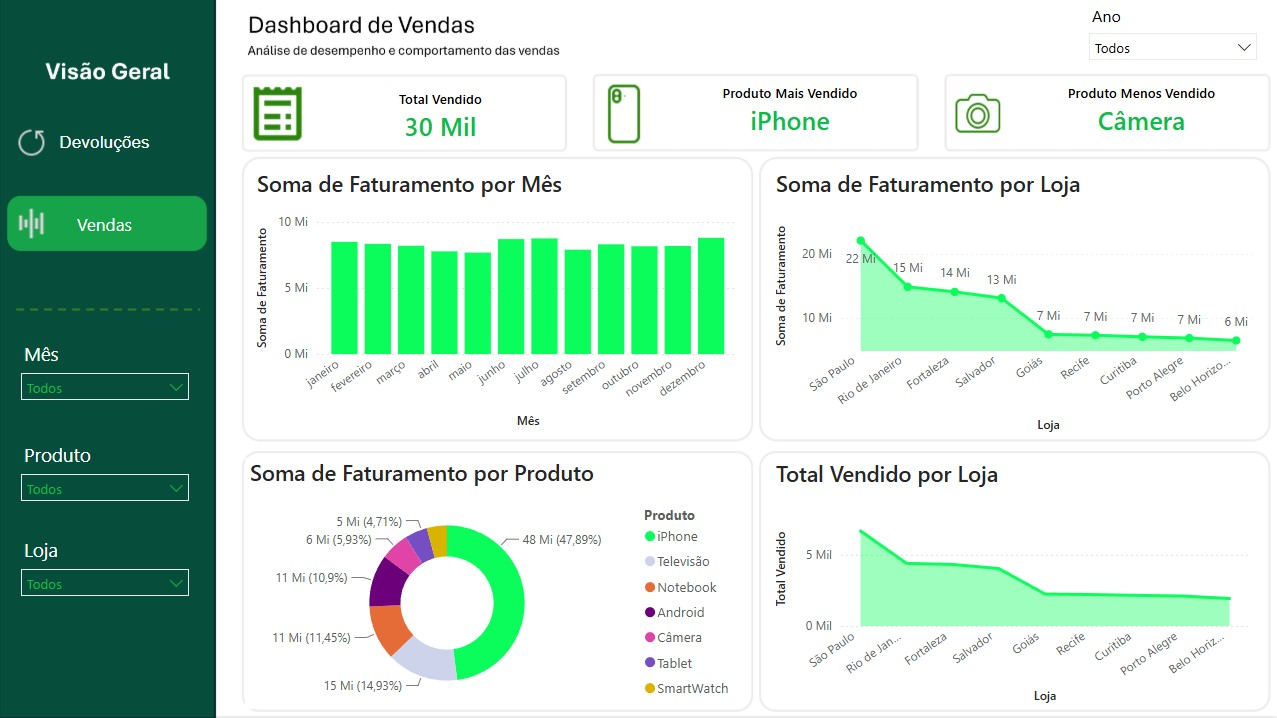

This screenshot's page, from the dashboard's own definition file:
{"tool":"powerbi","page":{"name":"Vendas","canvas":[1280,720],"ordinal":0},"visuals":[{"type":"columnChart","fields":{"Category":["Vendas 2019.Data Nova.Variation.Hierarquia de datas.Mês"],"Y":["Sum(Vendas 2019.Faturamento)"]},"box":[254,169,491,264],"z":2000},{"type":"donutChart","fields":{"Category":["Vendas 2019.Produto"],"Y":["Sum(Vendas 2019.Faturamento)"]},"box":[246.7,458.3,497.9,250.2],"z":3000},{"type":"lineChart","fields":{"Category":["Vendas 2019.Loja"],"Y":["Sum(Vendas 2019.Faturamento)"]},"box":[773,169,489,268],"z":4000},{"type":"cardVisual","fields":{"Data":["Vendas 2019.Produto Menos Vendido"]},"box":[1018,68,251,84],"z":5000},{"type":"slicer","fields":{"Values":["Vendas 2019.Data Nova.Variation.Hierarquia de datas.Mês"]},"box":[13,336,188,75],"z":6000},{"type":"slicer","fields":{"Values":["Vendas 2019.Produto"]},"box":[13,437,188,75],"z":7000},{"type":"slicer","fields":{"Values":["Vendas 2019.Loja"]},"box":[13,532,188,75],"z":8000},{"type":"stackedAreaChart","fields":{"Category":["Vendas 2019.Loja"],"Y":["Vendas 2019.Total Vendido"]},"box":[773,459,482,249],"z":9000},{"type":"actionButton","box":[10,116,193,53],"z":10000},{"type":"cardVisual","fields":{"Data":["Vendas 2019.Produto Mais Vendido"]},"box":[666,68,252,84],"z":11000},{"type":"cardVisual","fields":{"Data":["Vendas 2019.Total Vendido"]},"box":[320,78,245,75],"z":12000},{"type":"actionButton","box":[10,197,200,53],"z":13000},{"type":"slicer","fields":{"Values":["Vendas 2019.Data Nova.Variation.Hierarquia de datas.Ano"]},"box":[1081,0,188,68],"z":13001}]}

Visuals, with their boxes on the page's 1280x720 design canvas (x1, y1, x2, y2). These are canvas units, not pixel positions in the 1277x718 screenshot, which may show the page scaled, cropped or inside an application window:
columnChart - Vendas 2019.Data Nova.Variation.Hierarquia de datas.Mês x Sum(Vendas 2019.Faturamento): 254,169,745,433
donutChart - Vendas 2019.Produto x Sum(Vendas 2019.Faturamento): 247,458,745,708
lineChart - Vendas 2019.Loja x Sum(Vendas 2019.Faturamento): 773,169,1262,437
cardVisual - Vendas 2019.Produto Menos Vendido: 1018,68,1269,152
slicer - Vendas 2019.Data Nova.Variation.Hierarquia de datas.Mês: 13,336,201,411
slicer - Vendas 2019.Produto: 13,437,201,512
slicer - Vendas 2019.Loja: 13,532,201,607
stackedAreaChart - Vendas 2019.Loja x Vendas 2019.Total Vendido: 773,459,1255,708
actionButton: 10,116,203,169
cardVisual - Vendas 2019.Produto Mais Vendido: 666,68,918,152
cardVisual - Vendas 2019.Total Vendido: 320,78,565,153
actionButton: 10,197,210,250
slicer - Vendas 2019.Data Nova.Variation.Hierarquia de datas.Ano: 1081,0,1269,68
